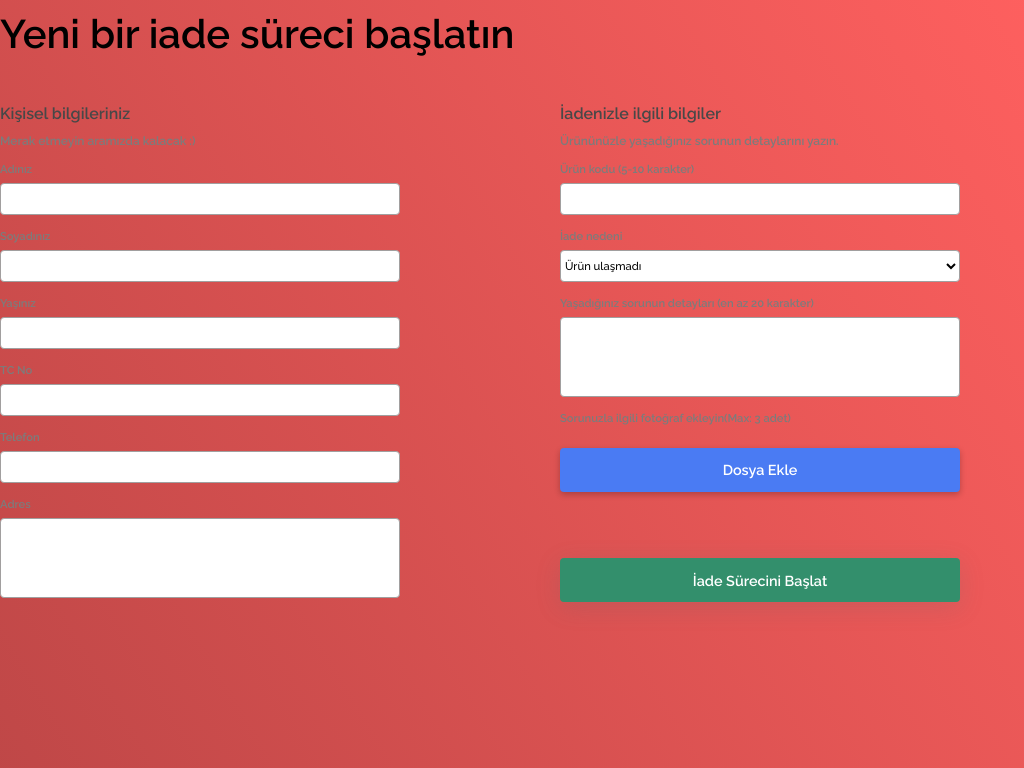
Test: New ticket page form tests › if shows all error fields when button is clicked with empty form
The image size is (1024, 768).
Click the button at (760, 580), box top-left (560, 558), bottom-right (960, 602)
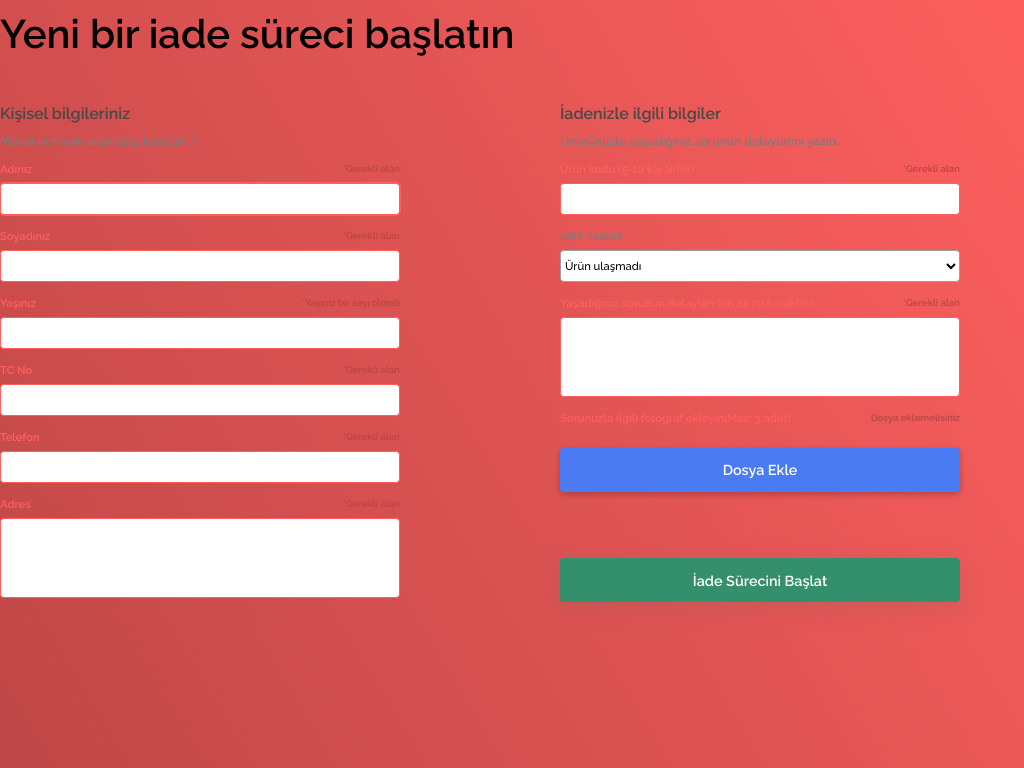
Now the number of messages is 9
